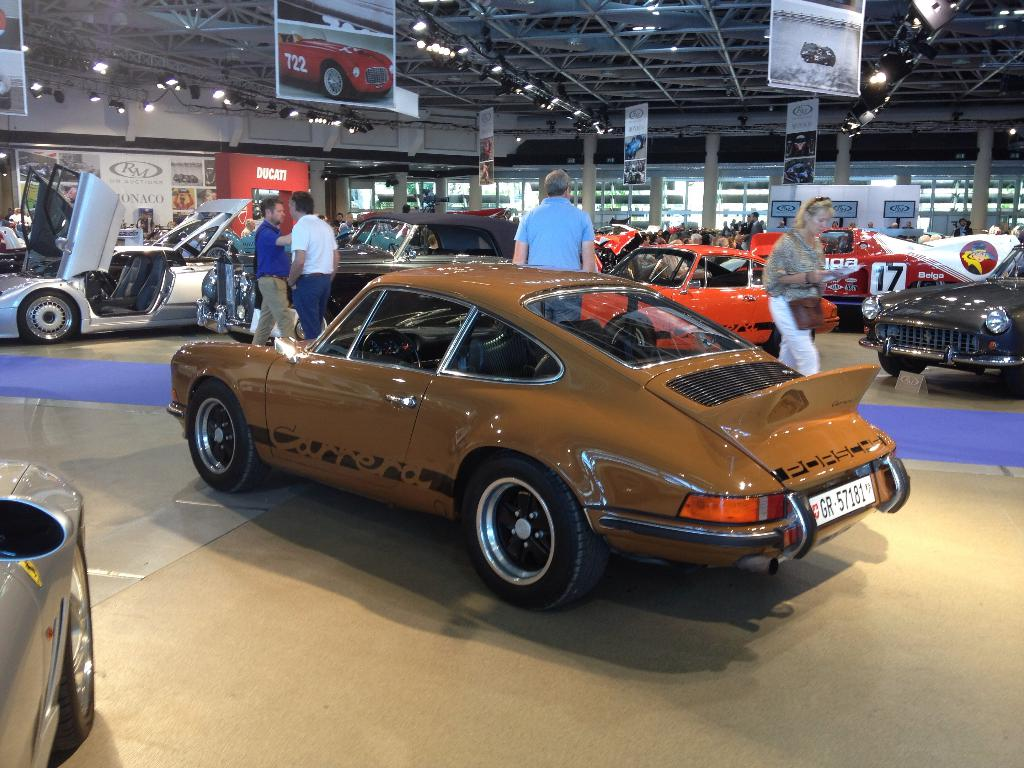Car: (156, 264, 917, 609), (0, 168, 242, 343), (201, 207, 516, 335), (0, 458, 102, 767), (578, 240, 832, 350), (853, 227, 1023, 382), (817, 218, 971, 295), (277, 36, 396, 99)
